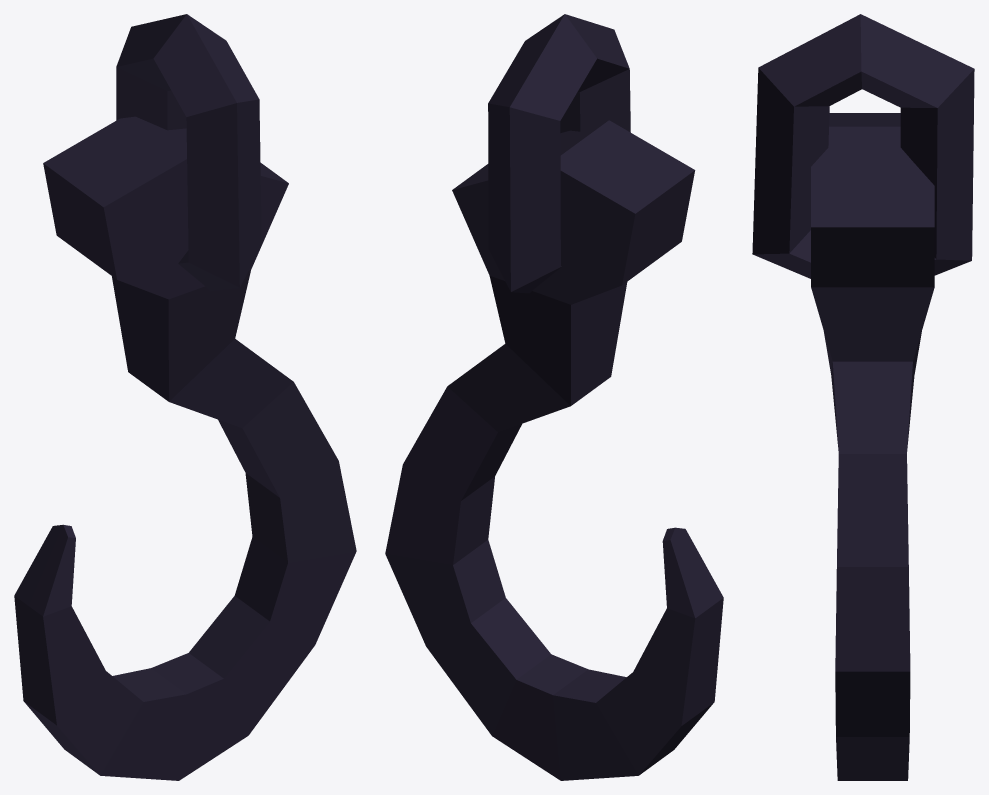
The model's file is MCastle_Fixtures_01.FBX.
3 renders of one model, left to right at view 1: azimuth 30°, elevation 25°; view 2: azimuth 150°, elevation 25°; view 3: azimuth 270°, elevation 25°, orthographic. The views are drawn at different scales.
Parts seen in each view (by area): view 1: MCastle_Fixtures_01_LOD0; view 2: MCastle_Fixtures_01_LOD0; view 3: MCastle_Fixtures_01_LOD0.
Boxes of the visible parts, x1=… form: MCastle_Fixtures_01_LOD0: x1=14, y1=14, x2=356, y2=780; MCastle_Fixtures_01_LOD0: x1=385, y1=14, x2=723, y2=780; MCastle_Fixtures_01_LOD0: x1=752, y1=14, x2=974, y2=780.
Bounding box in the file's own units: 0.4259 × 0.9909 × 0.2588.
